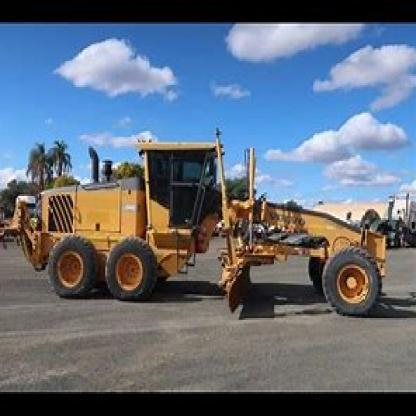bull_dozer/loader/grader: (14, 137, 382, 318)
